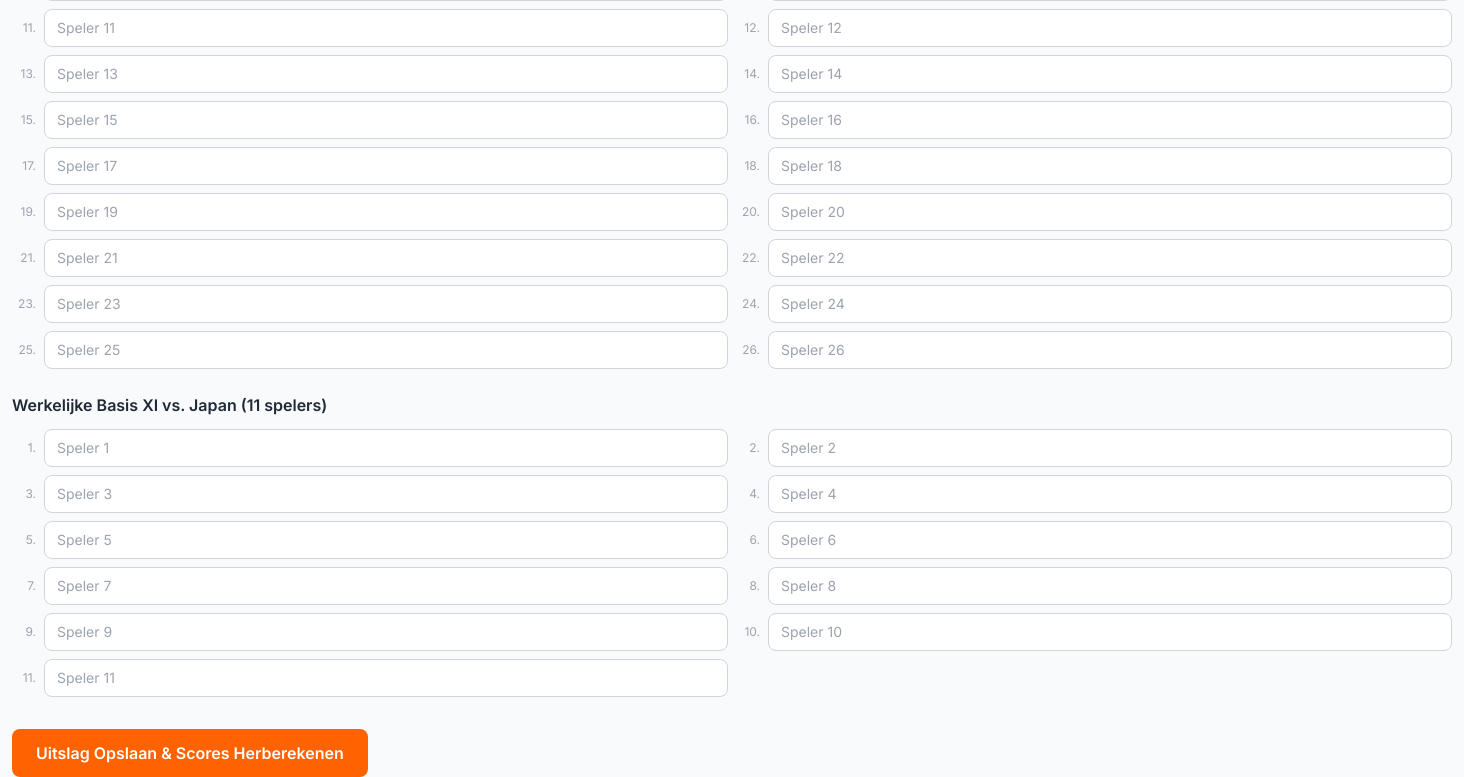
Test: AdminUitslagForm › shows error when upsert fails
(page scrolled)
Step 1. Click the button → click(190, 753), box [12, 729, 368, 776]
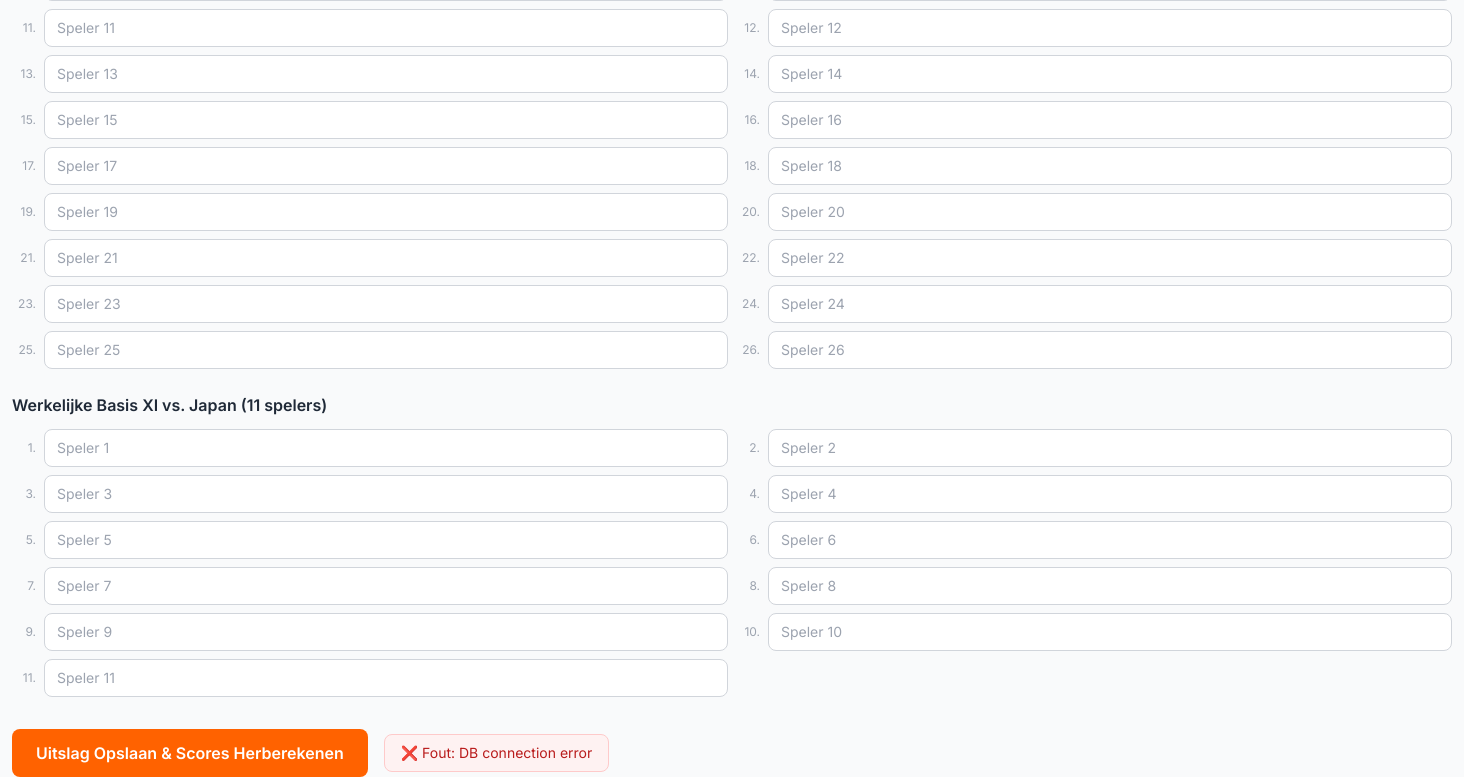
Check: the text "❌ Fout: DB connection error" is shown, box [384, 734, 609, 772]
